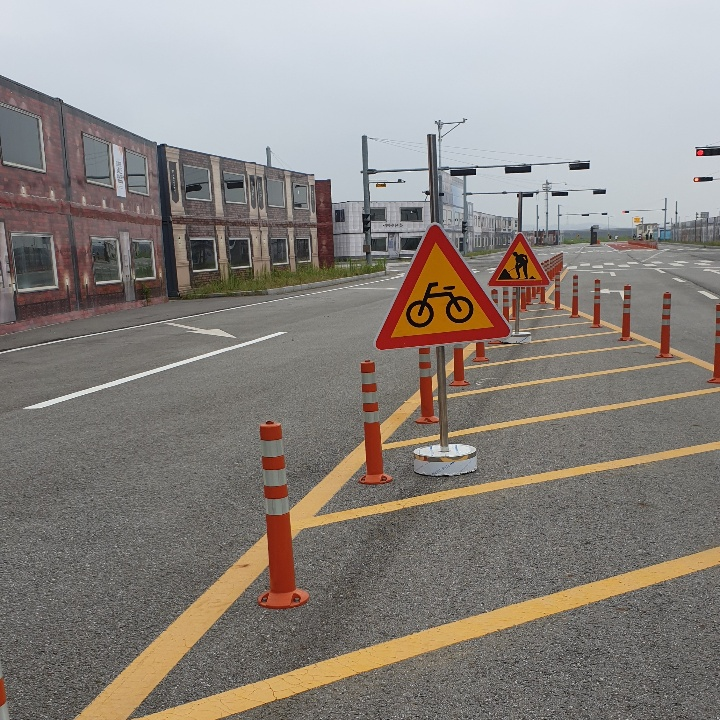bicycle: (374, 224, 513, 351)
const: (499, 246, 540, 280)
